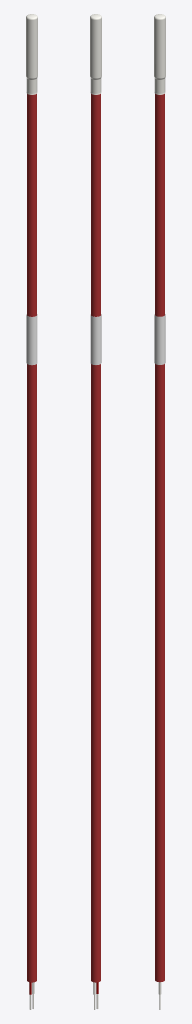
Rendered from MBT_153_TemperatureSensor.gltf.
3 renders of one model, left to right at view 1: azimuth 30°, elevation 25°; view 2: azimuth 210°, elevation 25°; view 3: azimuth 270°, elevation 25°, orthographic.
Parts seen in each view (by area): view 1: Solid1.002, Solid1, Solid1.001; view 2: Solid1.002, Solid1, Solid1.001; view 3: Solid1.002, Solid1, Solid1.001.
Boxes of the visible parts, x1=… form: Solid1.002: x1=27, y1=94, x2=36, y2=1009; Solid1: x1=26, y1=14, x2=37, y2=94; Solid1.001: x1=26, y1=314, x2=37, y2=365; Solid1.002: x1=91, y1=94, x2=100, y2=1009; Solid1: x1=90, y1=14, x2=101, y2=94; Solid1.001: x1=90, y1=314, x2=101, y2=364; Solid1.002: x1=155, y1=94, x2=164, y2=1009; Solid1: x1=154, y1=14, x2=165, y2=94; Solid1.001: x1=154, y1=314, x2=165, y2=364.
Bounding box in the file's own units: 0.0282 × 2.57 × 0.0282.
